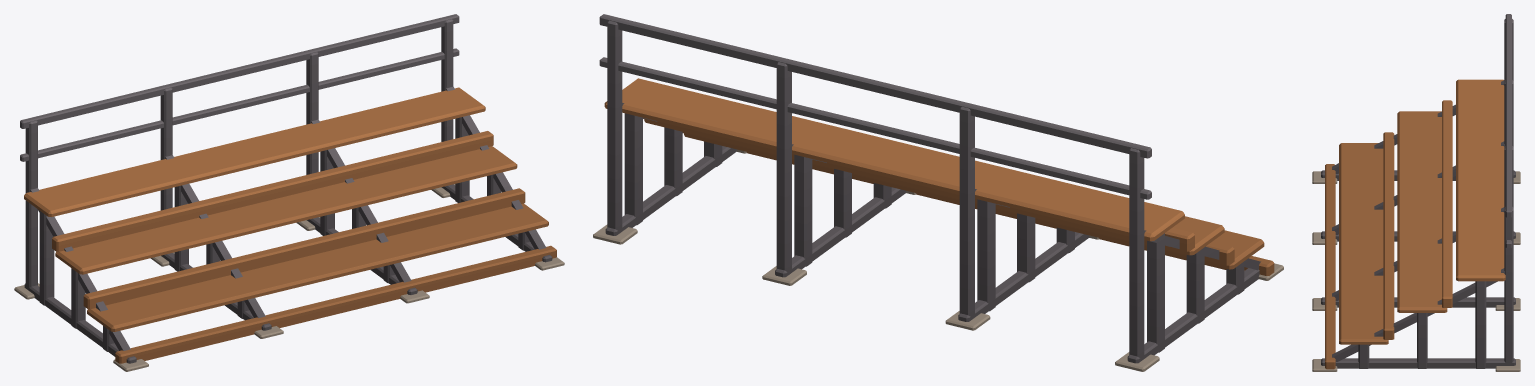
The model's file is ballfield_bleachers_v2.glb.
The picture shows the model from 3 angles, left to right: view 1: azimuth 30°, elevation 25°; view 2: azimuth 150°, elevation 25°; view 3: azimuth 270°, elevation 25°; orthographic projection. The views are drawn at different scales.
Parts seen in each view (by area): view 1: ballfield_bleachers_v2; view 2: ballfield_bleachers_v2; view 3: ballfield_bleachers_v2.
Part boxes in pixels (x1,y1,x2,y2): ballfield_bleachers_v2: (14, 14, 564, 371); ballfield_bleachers_v2: (593, 14, 1283, 371); ballfield_bleachers_v2: (1312, 14, 1520, 371).
Bounding box in the file's own units: 6.02 × 2.27 × 2.67.
Materials: 1 (1 with a texture image).
